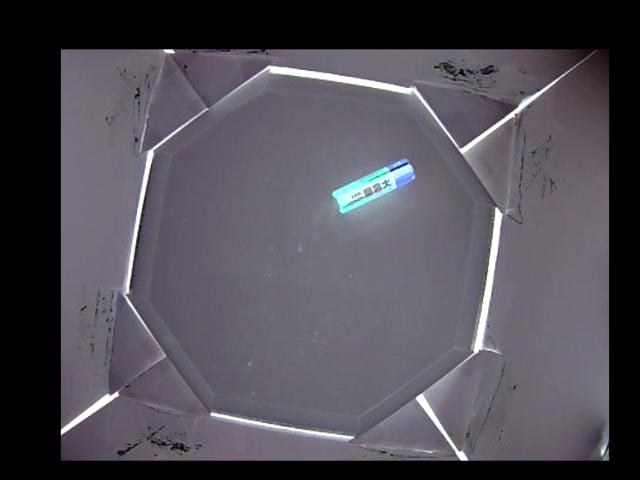Battery: (330, 158, 416, 215)
